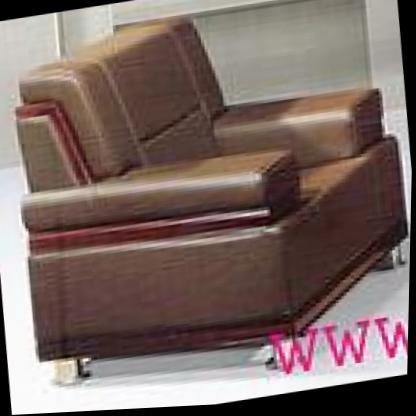Sofa: (1, 0, 416, 396)
